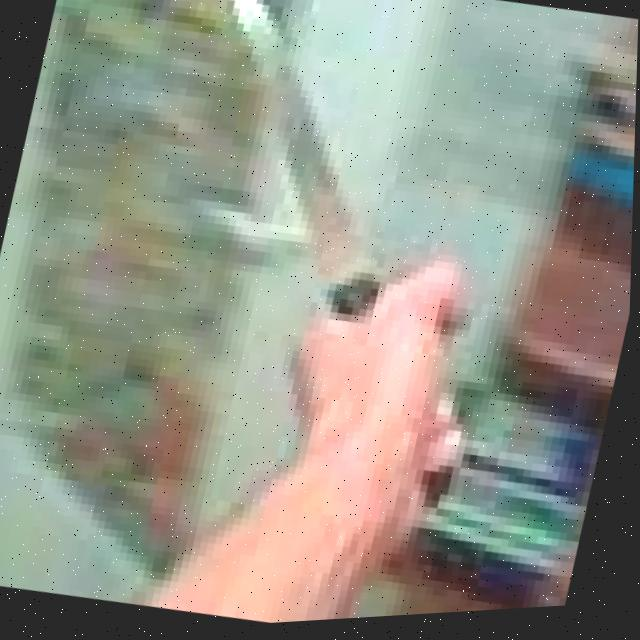knife: (129, 0, 444, 333)
